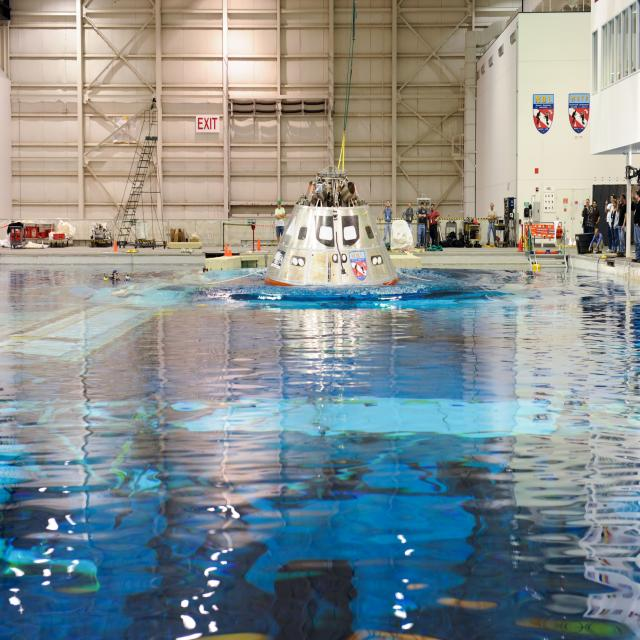Orion_capsule_mockup_(WEST)_located_on_far_end_of_pool: (264, 165, 399, 290)
